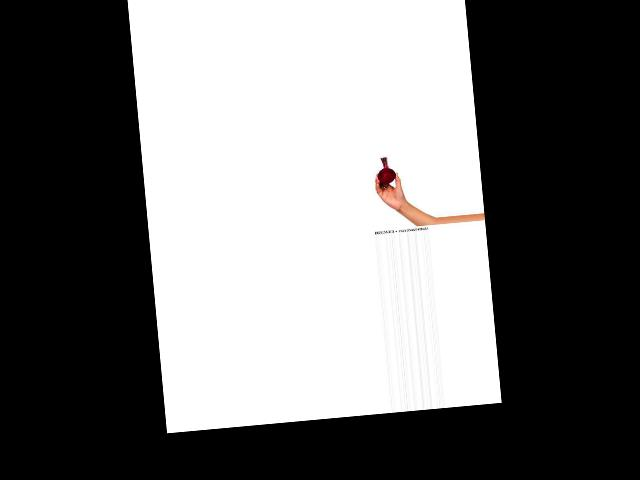beet: (375, 156, 395, 184)
